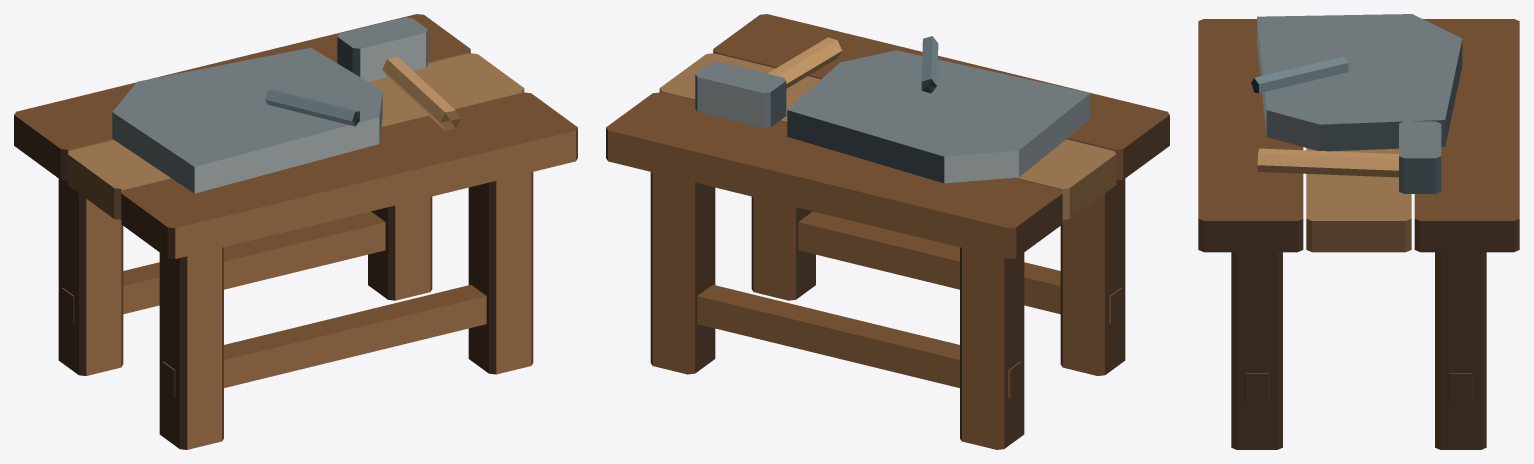
Rendered from workbench.fbx.
3 renders of one model, left to right at view 1: azimuth 30°, elevation 25°; view 2: azimuth 150°, elevation 25°; view 3: azimuth 270°, elevation 25°, orthographic.
Parts seen in each view (by area): view 1: workbench_body; view 2: workbench_body; view 3: workbench_body.
Boxes of the visible parts, x1,y1,x2,y2 form: workbench_body: (14, 14, 577, 449); workbench_body: (606, 14, 1169, 449); workbench_body: (1198, 14, 1519, 449).
Size of the model in its own units: 3.05 by 2.03 by 2.05.
1 material, 1 textured.
